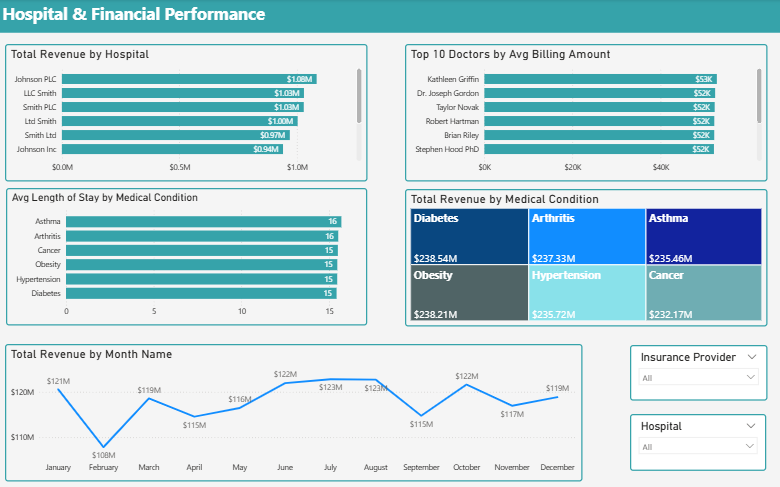

What the dashboard file says about the page in this screenshot:
{"tool":"powerbi","page":{"name":"Hospital&financial performance","canvas":[1280,800],"ordinal":2},"visuals":[{"type":"textbox","box":[0,0,1280.5,54.1],"z":0},{"type":"barChart","fields":{"Category":["healthcare_dataset.Hospital"],"Y":["_Measures.Total Revenue"]},"box":[10.1,72.2,579.5,220.1],"z":1000},{"type":"barChart","title":"Top 10 Doctors by Avg Billing Amount","fields":{"Category":["healthcare_dataset.Doctor"],"Y":["_Measures.Avg Billing Amount"]},"box":[650,72,580,220],"z":2000},{"type":"treemap","fields":{"Group":["healthcare_dataset.Medical Condition"],"Values":["_Measures.Total Revenue"]},"box":[650,304,580,220],"z":3000},{"type":"lineChart","fields":{"Category":["DateTable.Month Name"],"Y":["_Measures.Total Revenue"]},"box":[10.1,552.7,923.9,220.1],"z":3001},{"type":"clusteredBarChart","fields":{"Category":["healthcare_dataset.Medical Condition"],"Y":["_Measures.Avg Length of Stay"]},"box":[11.8,302.4,577.8,220.1],"z":3002},{"type":"slicer","fields":{"Values":["healthcare_dataset.Insurance Provider"]},"box":[1009.6,554.3,220.1,89],"z":3003},{"type":"slicer","fields":{"Values":["healthcare_dataset.Hospital"]},"box":[1009.6,663.5,218.4,90.7],"z":3004}]}

Visuals, with their boxes in screenshot pixels (x1, y1, x2, y2), scaled from the page's 1280x800 canvas onto the 780x487 screenshot:
textbox: locate(0, 0, 779, 33)
barChart - healthcare_dataset.Hospital x _Measures.Total Revenue: locate(6, 44, 359, 178)
"Top 10 Doctors by Avg Billing Amount" barChart: locate(396, 44, 750, 178)
treemap - healthcare_dataset.Medical Condition x _Measures.Total Revenue: locate(396, 185, 750, 319)
lineChart - DateTable.Month Name x _Measures.Total Revenue: locate(6, 336, 569, 470)
clusteredBarChart - healthcare_dataset.Medical Condition x _Measures.Avg Length of Stay: locate(7, 184, 359, 318)
slicer - healthcare_dataset.Insurance Provider: locate(615, 337, 749, 392)
slicer - healthcare_dataset.Hospital: locate(615, 404, 748, 459)
